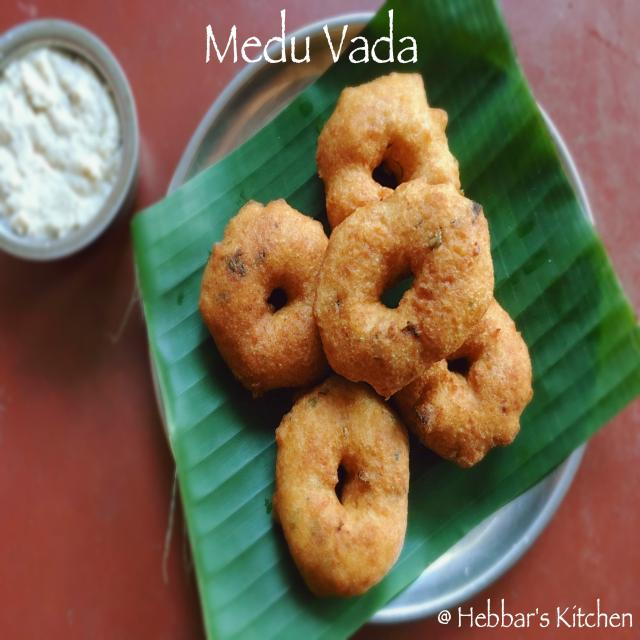VADA: (196, 73, 535, 601)
WHITE CHUTNEY: (0, 46, 124, 250)
